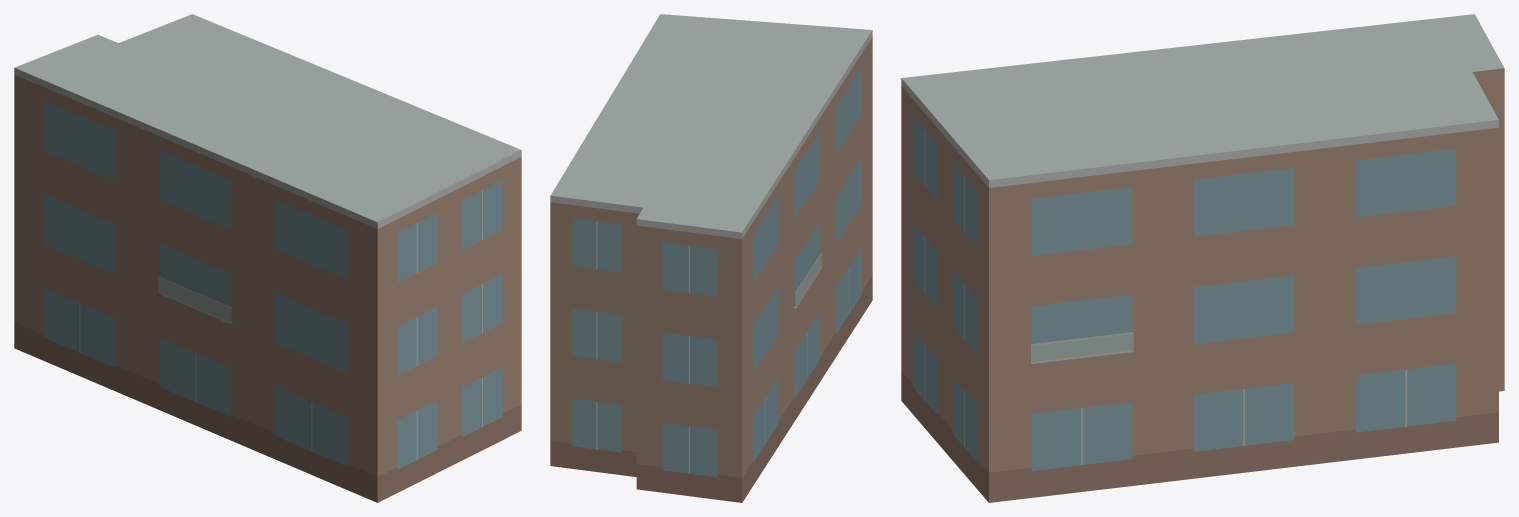
File: survey-upis-32990180.glb
3 views of the same model, side by side, from view 1: azimuth 30°, elevation 25°; view 2: azimuth 150°, elevation 25°; view 3: azimuth 270°, elevation 25° (orthographic). The views are drawn at different scales.
Visible parts, largest first — view 1: survey-upis-32990180.tmp; view 2: survey-upis-32990180.tmp; view 3: survey-upis-32990180.tmp.
Boxes of the visible parts, x1=… form: survey-upis-32990180.tmp: x1=14, y1=14, x2=521, y2=502; survey-upis-32990180.tmp: x1=550, y1=14, x2=872, y2=502; survey-upis-32990180.tmp: x1=901, y1=14, x2=1504, y2=502.
Size of the model in its own units: 11.17 by 10.1 by 17.12.
